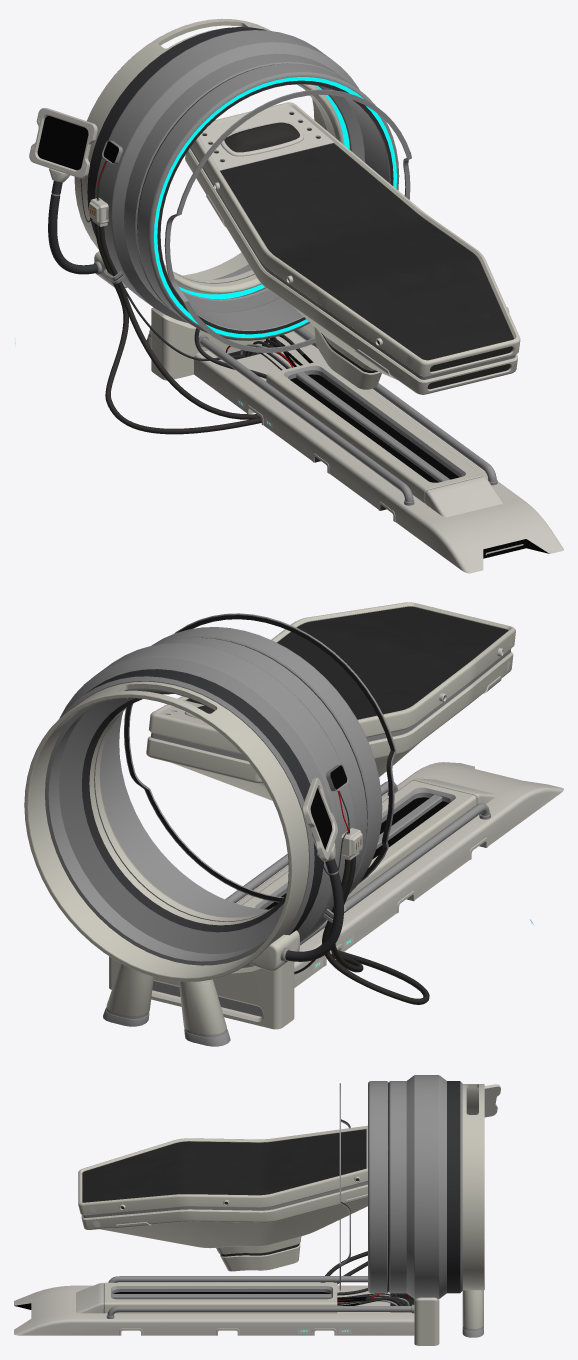
Rendered from camaintento2.fbx.
3 views of the same model, one above another, from view 1: azimuth 30°, elevation 25°; view 2: azimuth 150°, elevation 25°; view 3: azimuth 270°, elevation 25° (orthographic). The views are drawn at different scales.
Parts seen in each view (by area): view 1: Cylinder_Machine.001, Bed, Bed_Bottom, cables; view 2: Cylinder_Machine.001, Bed, Bed_Bottom, cables; view 3: Bed, Cylinder_Machine.001, Bed_Bottom, cables.
Part boxes in pixels (x1=…): Cylinder_Machine.001: x1=29, y1=18, x2=411, y2=380; Bed: x1=185, y1=102, x2=520, y2=394; Bed_Bottom: x1=194, y1=327, x2=563, y2=573; cables: x1=80, y1=160, x2=313, y2=434; Cylinder_Machine.001: x1=24, y1=613, x2=396, y2=1046; Bed: x1=146, y1=602, x2=515, y2=800; Bed_Bottom: x1=225, y1=762, x2=563, y2=987; cables: x1=294, y1=790, x2=429, y2=1004; Bed: x1=78, y1=1125, x2=367, y2=1271; Cylinder_Machine.001: x1=339, y1=1075, x2=500, y2=1345; Bed_Bottom: x1=14, y1=1276, x2=414, y2=1335; cables: x1=321, y1=1251, x2=411, y2=1312.
Bounding box in the file's own units: 337 × 157 × 204.
